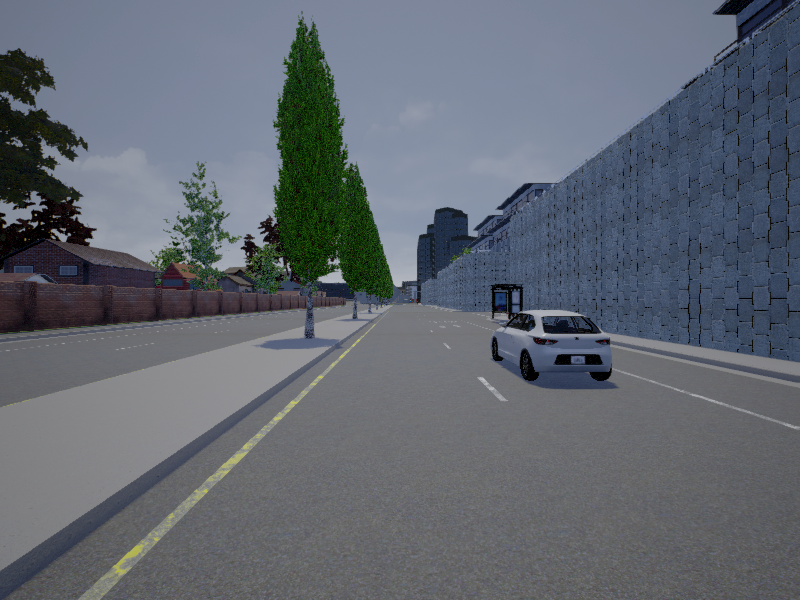Benign: (493, 311, 614, 383)
